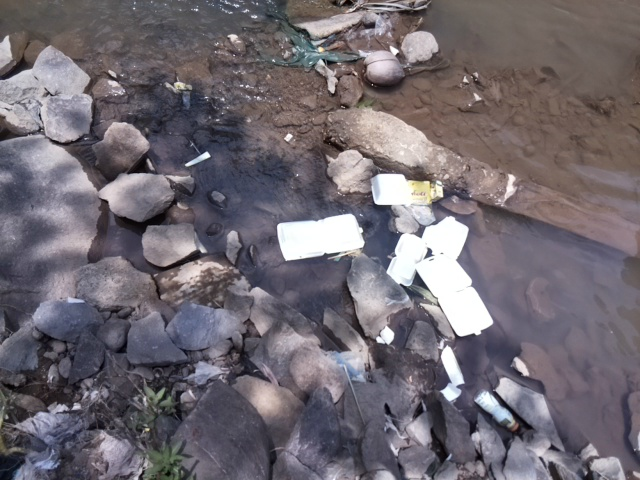Sampah_Botol_Plastik: (471, 389, 523, 433)
Sampah_Styrofoam: (387, 214, 498, 337), (274, 210, 368, 261), (435, 345, 467, 405), (370, 171, 417, 210)
